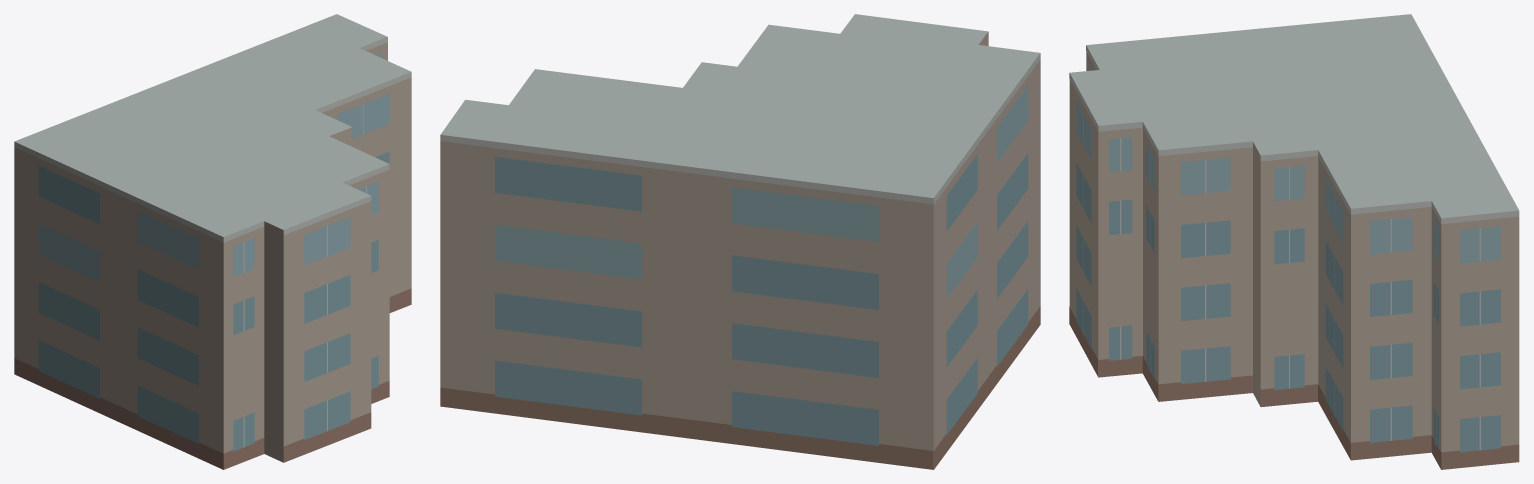
The model's file is survey-upis-32621264.glb.
The picture shows the model from 3 angles, left to right: view 1: azimuth 30°, elevation 25°; view 2: azimuth 150°, elevation 25°; view 3: azimuth 270°, elevation 25°; orthographic projection. The views are drawn at different scales.
Visible parts, largest first — view 1: survey-upis-32621264.tmp; view 2: survey-upis-32621264.tmp; view 3: survey-upis-32621264.tmp.
Part boxes in pixels (left/top/right/bottom): survey-upis-32621264.tmp: left=14, top=14, right=411, bottom=469; survey-upis-32621264.tmp: left=440, top=14, right=1040, bottom=469; survey-upis-32621264.tmp: left=1069, top=14, right=1519, bottom=469.
Size of the model in its own units: 18.3 by 10.5 by 17.03.
